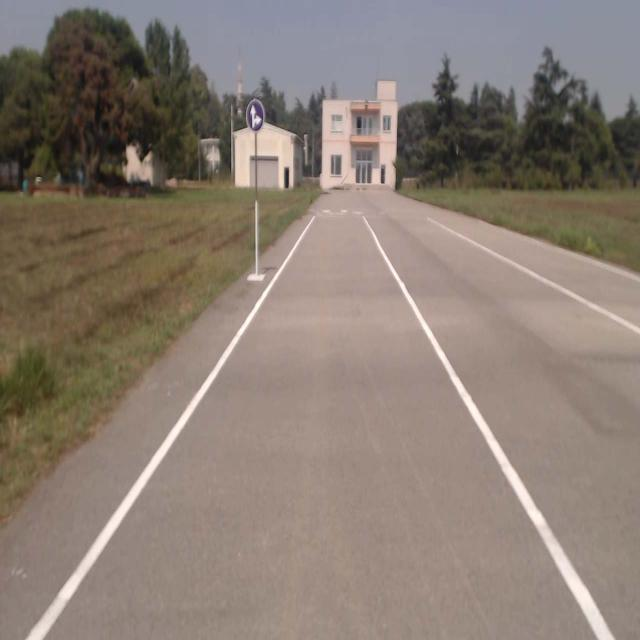ilerisag: (246, 99, 264, 129)
